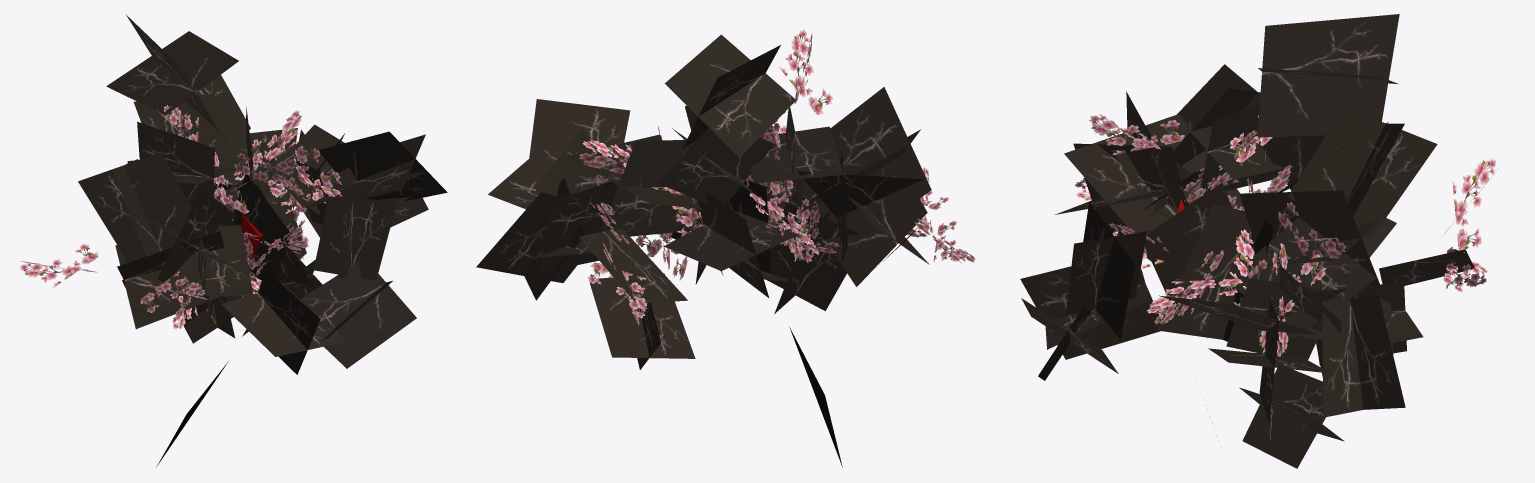
The model's file is sakura2 lod4.FBX.
3 views of the same model, side by side, from view 1: azimuth 30°, elevation 25°; view 2: azimuth 150°, elevation 25°; view 3: azimuth 270°, elevation 25° (orthographic). The views are drawn at different scales.
Parts seen in each view (by area): view 1: sakura2_LOD4; view 2: sakura2_LOD4; view 3: sakura2_LOD4.
Part boxes in pixels (x1,y1,x2,y2): sakura2_LOD4: (20, 15, 447, 467); sakura2_LOD4: (476, 29, 975, 467); sakura2_LOD4: (1020, 14, 1498, 468).
Bounding box in the file's own units: 71067 × 62682 × 59740.
